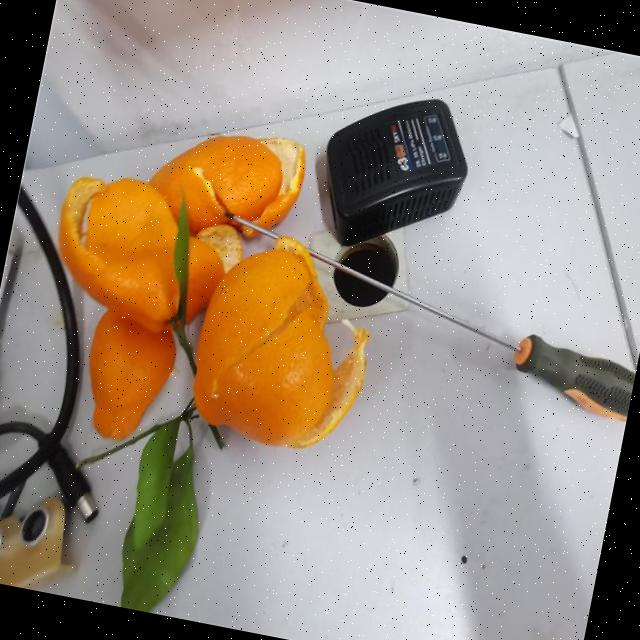orange-peel: (19, 96, 408, 483)
